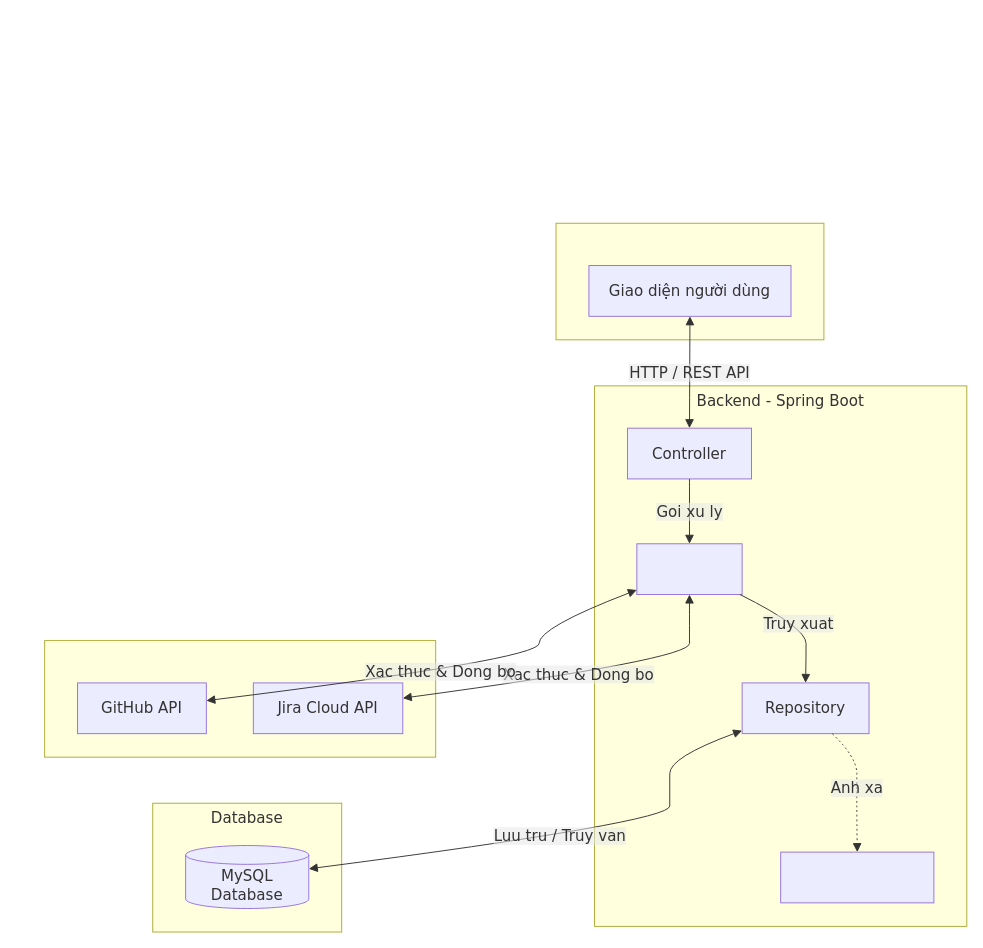
Some shapes in this 983 by 948 pixel diagram are drawn without their labels. The shapes that lost their labels are listed below. From the top down, each one's box as (x1, y1, x2, y2) in pixels, then its label:
(555, 222, 824, 340): Frontend
(636, 543, 742, 595): Service
(44, 640, 436, 757): Tich hop ben ngoai
(780, 851, 934, 903): Entity / Model
